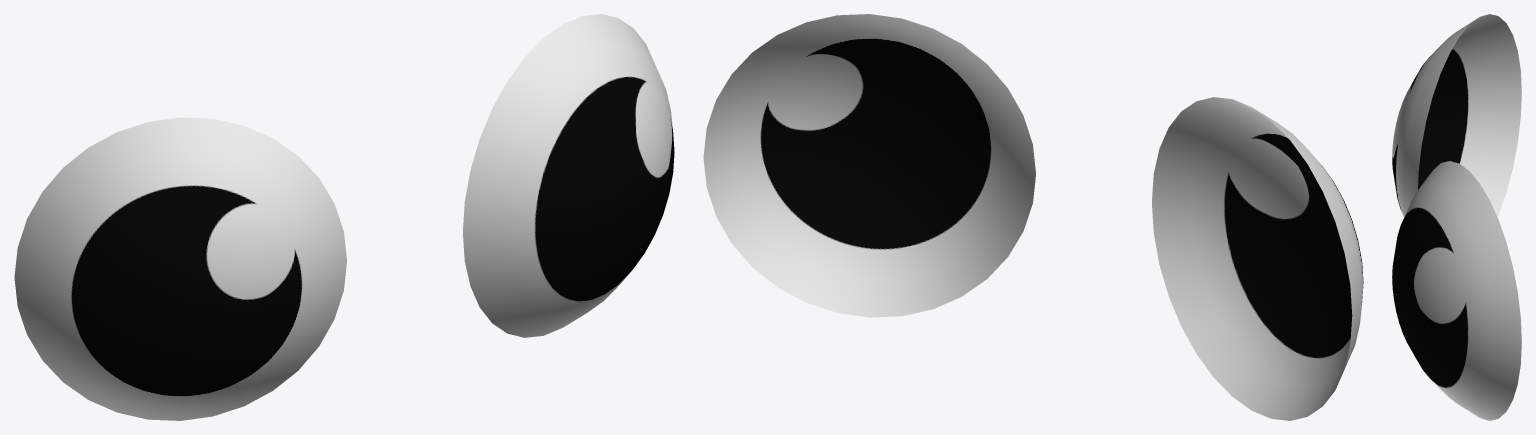
File: Eyes_1.fbx
3 renders of one model, left to right at view 1: azimuth 30°, elevation 25°; view 2: azimuth 150°, elevation 25°; view 3: azimuth 270°, elevation 25°, orthographic. The views are drawn at different scales.
Parts seen in each view (by area): view 1: Eyes_1; view 2: Eyes_1; view 3: Eyes_1.
Boxes of the visible parts, x1,y1,x2,y2 form: Eyes_1: (14, 14, 674, 420); Eyes_1: (703, 14, 1363, 420); Eyes_1: (1392, 14, 1521, 420).
Bounding box in the file's own units: 34.85 × 15.58 × 7.66.
